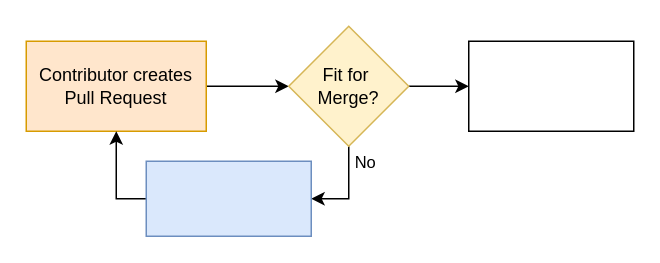
This 660x263 diagram has some shape labels left out. The shapes that lost their labels are listed below. From the top down, each one's centre as x and y in pixels, then its label:
At [550,85]: "Changes Merged by Maintainer".
At [228,198]: "Report to Contributor".
